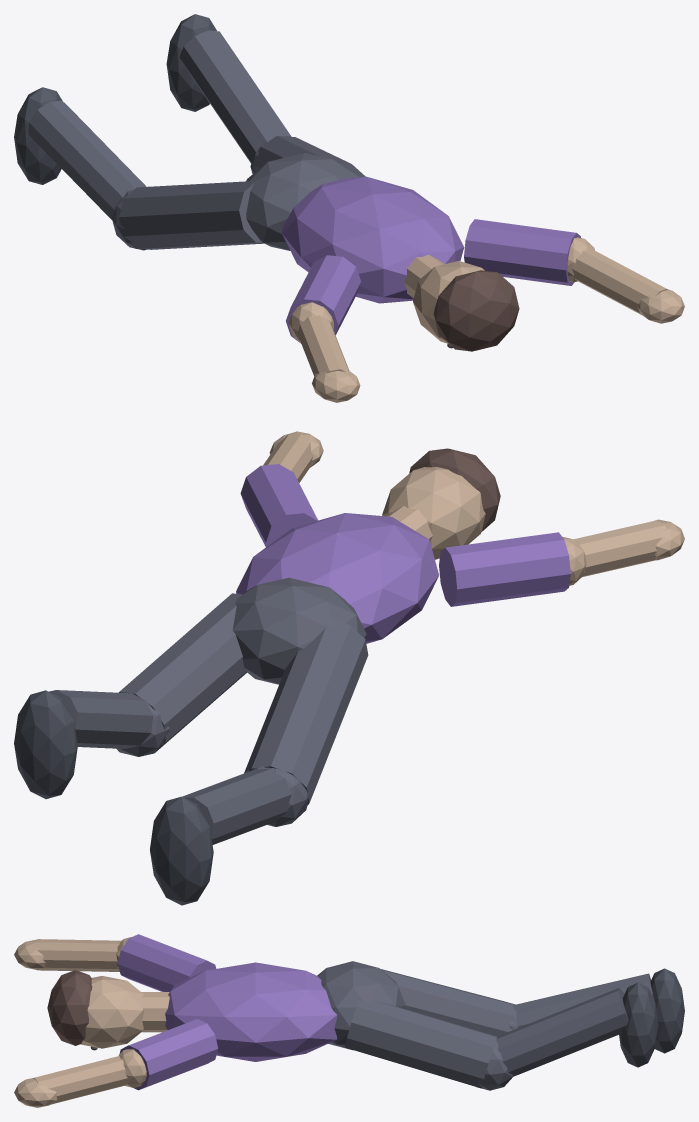
3 views of the same model, one above another, from view 1: azimuth 30°, elevation 25°; view 2: azimuth 150°, elevation 25°; view 3: azimuth 270°, elevation 25° (orthographic). The views are drawn at different scales.
Parts seen in each view (by area): view 1: world; view 2: world; view 3: world.
Part boxes in pixels (bbox=[...]): world: bbox=[14, 14, 684, 402]; world: bbox=[14, 431, 684, 905]; world: bbox=[14, 934, 684, 1107].
Size of the model in its own units: 1.17 by 0.4556 by 2.14.
